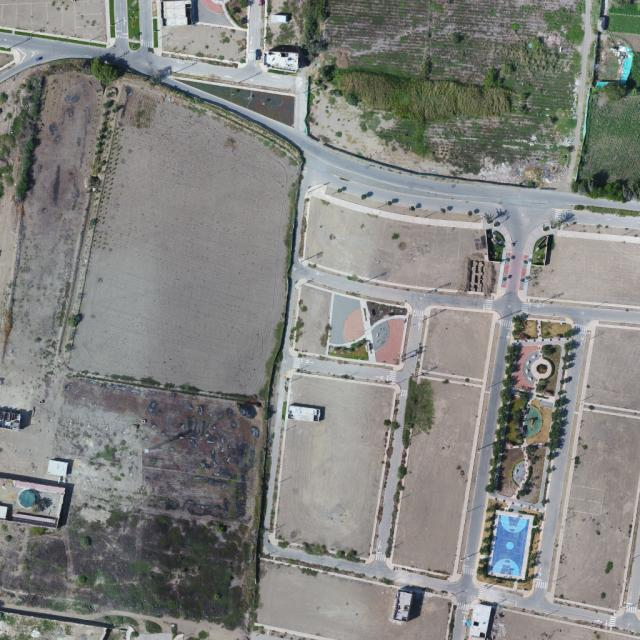building: (392, 584, 426, 625), (287, 402, 326, 424), (469, 603, 491, 639), (162, 0, 191, 26), (265, 52, 299, 72), (0, 412, 22, 430), (48, 460, 69, 476), (271, 12, 291, 23)
dryland: (69, 79, 319, 404), (49, 376, 268, 526), (270, 373, 394, 555), (296, 196, 489, 299), (392, 378, 480, 574), (50, 400, 149, 522), (422, 305, 493, 380), (159, 19, 249, 63), (0, 427, 53, 477), (295, 285, 332, 355), (1, 53, 14, 67)
greenland: (315, 0, 588, 135), (303, 82, 570, 188), (331, 67, 512, 129), (11, 73, 47, 204), (86, 52, 122, 89), (601, 76, 629, 104), (41, 59, 90, 75)
metalled_road: (162, 69, 308, 151), (109, 41, 297, 96), (0, 33, 106, 98), (626, 530, 640, 613), (246, 0, 263, 63), (294, 76, 309, 133), (113, 0, 129, 43), (607, 616, 616, 627)
